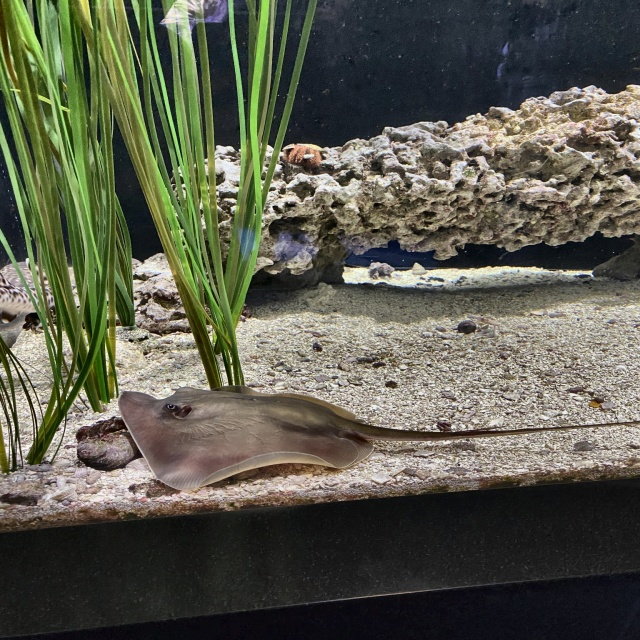stingray: (117, 388, 373, 493)
